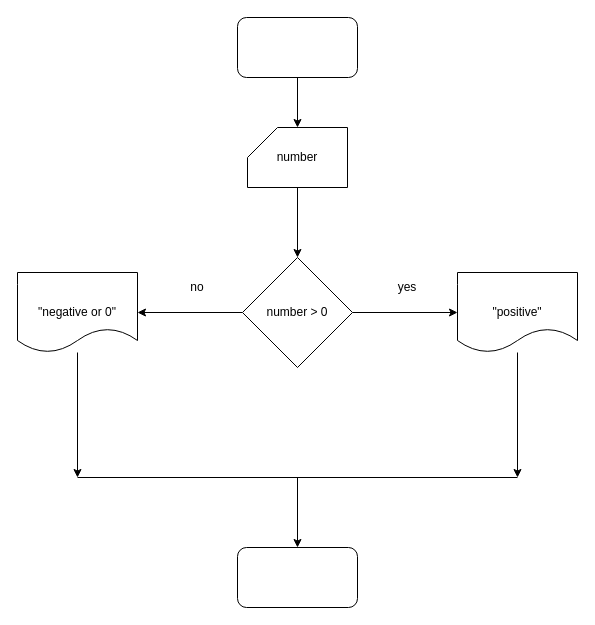
This 595x625 diagram has some shape labels left out. Here are the shapes that lost their labels. From the top down, the centre of each, then its label:
At point 297,47: "START".
At point 297,577: "STOP".
